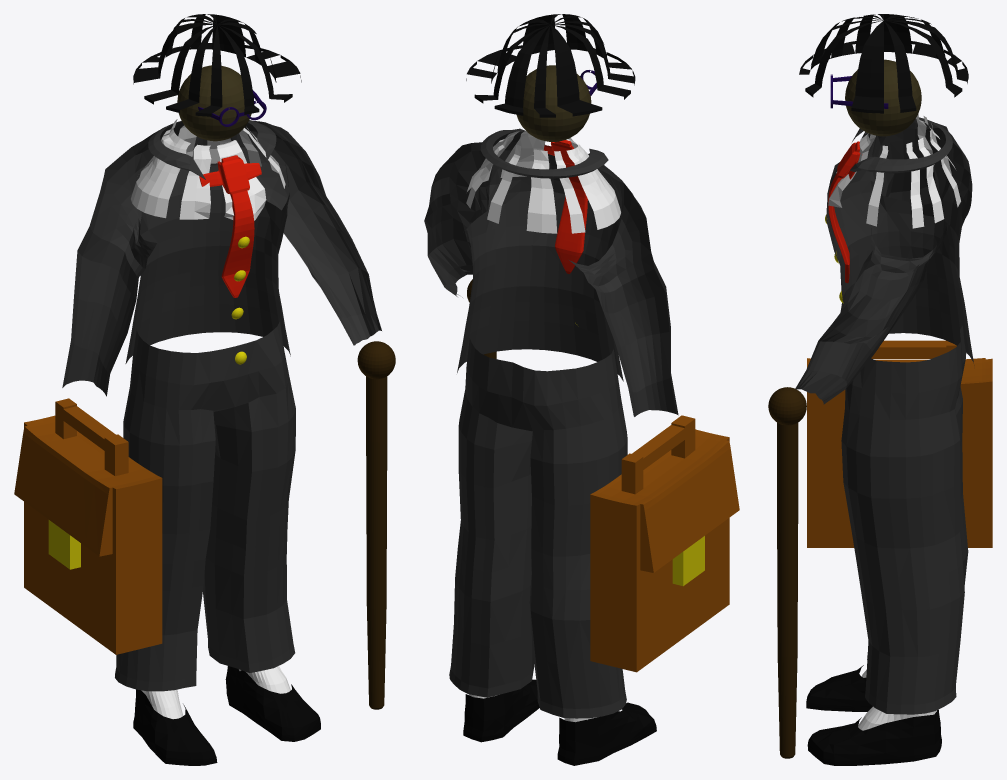
Rendered from Diplomat.glb.
3 renders of one model, left to right at view 1: azimuth 30°, elevation 25°; view 2: azimuth 150°, elevation 25°; view 3: azimuth 270°, elevation 25°, orthographic.
Visible parts, largest first — view 1: pants, jacket, case, cane, hat, shirt, shoe left, tie, shoe right, Sphere, case lock, sock right (+1 smaller); view 2: pants, jacket, case, hat, shirt, shoe right, shoe left, Sphere, tie, case lock; view 3: pants, jacket, case, cane, hat, shoe left, shirt, Sphere, shoe right, tie, sock left.
Boxes of the visible parts, x1,y1,x2,y2 form: pants: [115, 322, 295, 691]; jacket: [62, 120, 381, 396]; case: [14, 398, 162, 654]; cane: [357, 341, 395, 709]; hat: [133, 14, 301, 116]; shirt: [131, 119, 285, 220]; shoe left: [225, 666, 320, 741]; tie: [199, 155, 261, 297]; shoe right: [133, 689, 217, 765]; Sphere: [177, 65, 251, 141]; case lock: [48, 520, 80, 569]; sock right: [141, 689, 183, 719]; pants: [449, 338, 627, 718]; jacket: [424, 128, 678, 416]; case: [590, 415, 739, 672]; hat: [466, 14, 635, 117]; shirt: [466, 130, 620, 233]; shoe right: [557, 702, 656, 765]; shoe left: [463, 679, 539, 742]; Sphere: [516, 65, 591, 141]; tie: [543, 140, 587, 273]; case lock: [672, 536, 704, 586]; pants: [841, 325, 968, 714]; jacket: [795, 117, 974, 404]; case: [807, 340, 992, 547]; cane: [768, 387, 806, 758]; hat: [799, 14, 968, 113]; shoe left: [807, 709, 941, 765]; shirt: [828, 114, 960, 228]; Sphere: [845, 59, 921, 136]; shoe right: [806, 665, 937, 711]; tie: [828, 141, 862, 283]; sock left: [858, 706, 935, 730].
Size of the model in its own units: 0.7216 by 1.7 by 0.4885.
